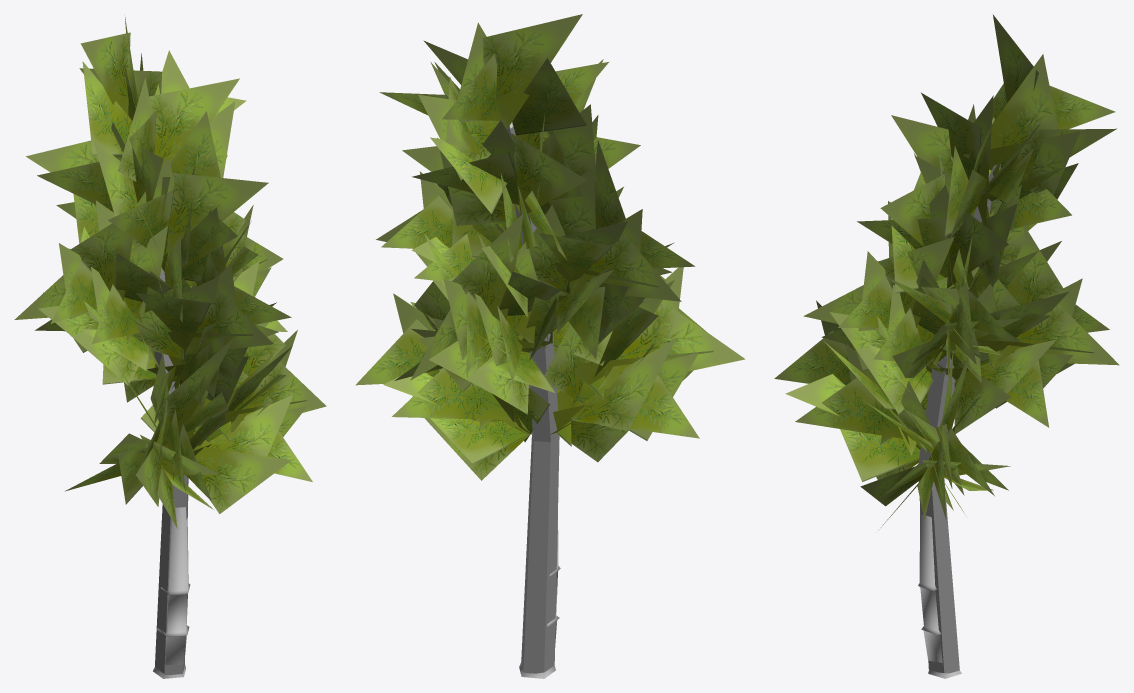
File: JiaYeSiWai1_ZhuZi_2.FBX
3 renders of one model, left to right at view 1: azimuth 30°, elevation 25°; view 2: azimuth 150°, elevation 25°; view 3: azimuth 270°, elevation 25°, orthographic. The views are drawn at different scales.
Visible parts, largest first — view 1: JiaYeSiWai1_ZhuZi_2a, JiaYeSiWai1_ZhuZi_2b, JiaYeSiWai1_ZhuZi_2_Xzm; view 2: JiaYeSiWai1_ZhuZi_2a, JiaYeSiWai1_ZhuZi_2_Xzm; view 3: JiaYeSiWai1_ZhuZi_2a, JiaYeSiWai1_ZhuZi_2_Xzm, JiaYeSiWai1_ZhuZi_2b.
Part boxes in pixels (<box>): JiaYeSiWai1_ZhuZi_2a: <box>14,17,326,528</box>; JiaYeSiWai1_ZhuZi_2b: <box>153,507,190,678</box>; JiaYeSiWai1_ZhuZi_2_Xzm: <box>154,267,188,674</box>; JiaYeSiWai1_ZhuZi_2a: <box>355,14,745,480</box>; JiaYeSiWai1_ZhuZi_2_Xzm: <box>501,121,559,673</box>; JiaYeSiWai1_ZhuZi_2a: <box>774,15,1119,530</box>; JiaYeSiWai1_ZhuZi_2_Xzm: <box>918,163,1000,673</box>; JiaYeSiWai1_ZhuZi_2b: <box>918,507,961,678</box>.
Bounding box in the file's own units: 463 × 922 × 462.
